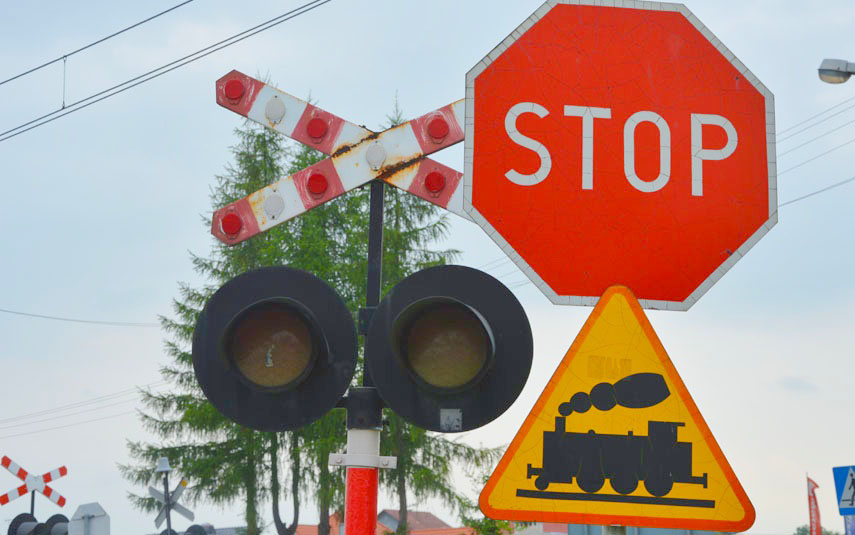a10: (511, 367, 722, 514)
